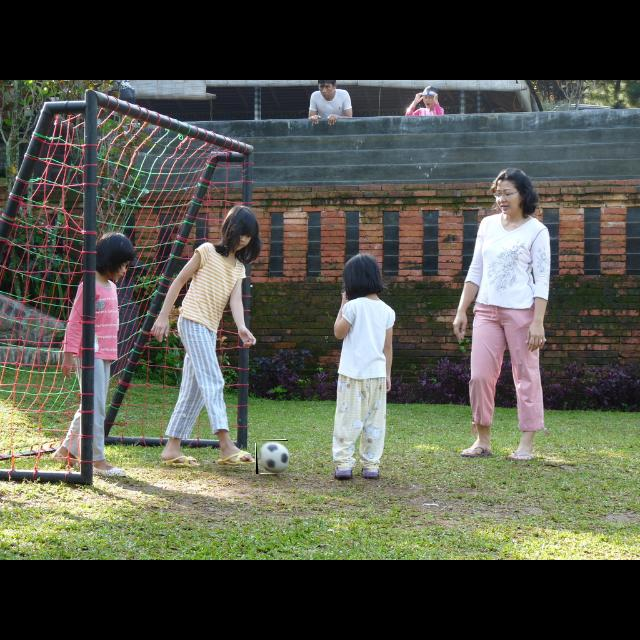Football: (256, 440, 288, 474)
